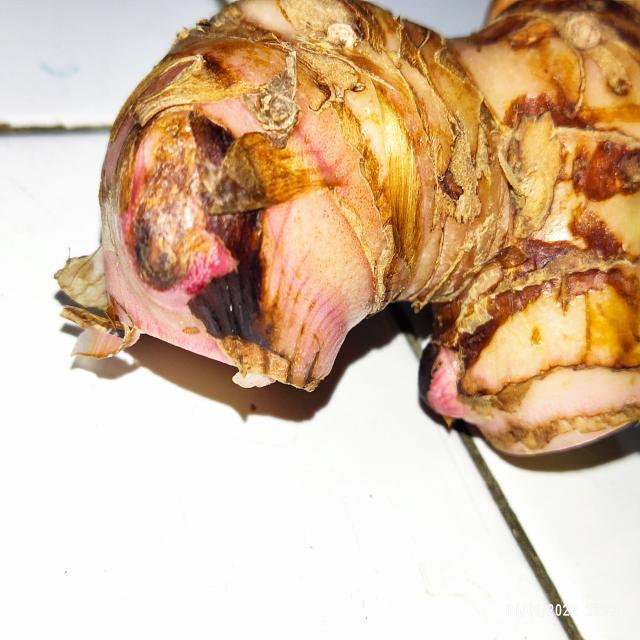ginger: (93, 0, 640, 424)
